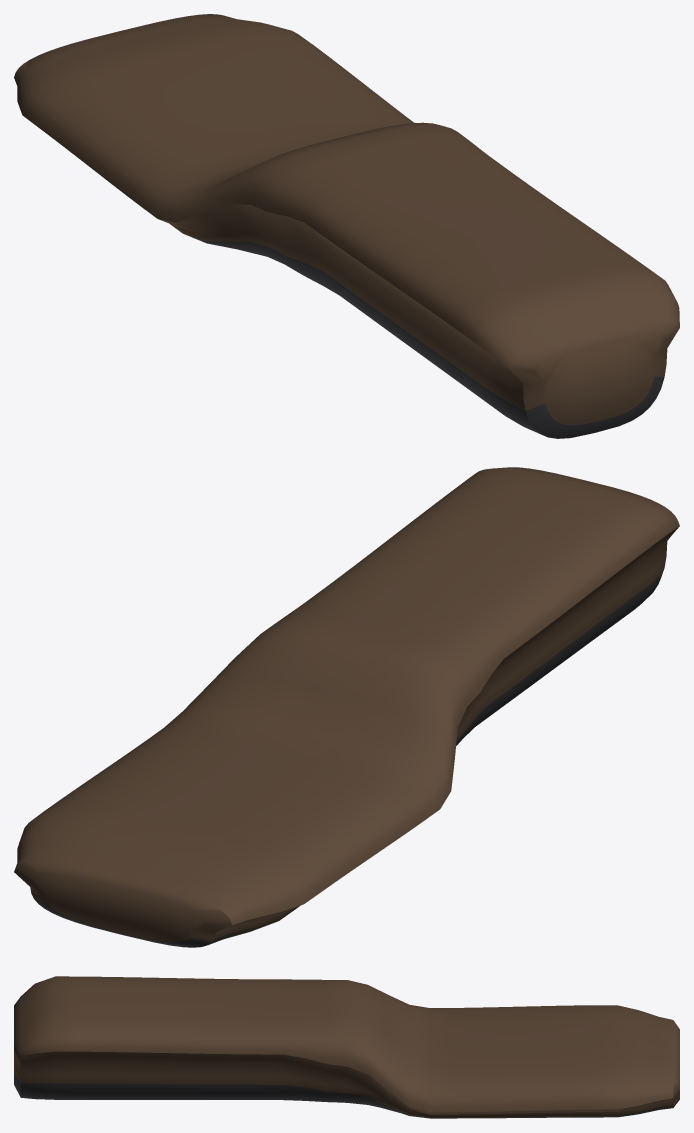
File: stepped.glb
3 renders of one model, top to bottom at view 1: azimuth 30°, elevation 25°; view 2: azimuth 150°, elevation 25°; view 3: azimuth 270°, elevation 25°, orthographic. The views are drawn at different scales.
Parts seen in each view (by area): view 1: lod0; view 2: lod0; view 3: lod0.
Boxes of the visible parts, <box> form: lod0: <box>14,14,679,438</box>; lod0: <box>14,467,679,947</box>; lod0: <box>14,976,679,1118</box>.
Size of what is drawn, in the model's own units: 0.3391 by 0.145 by 1.
